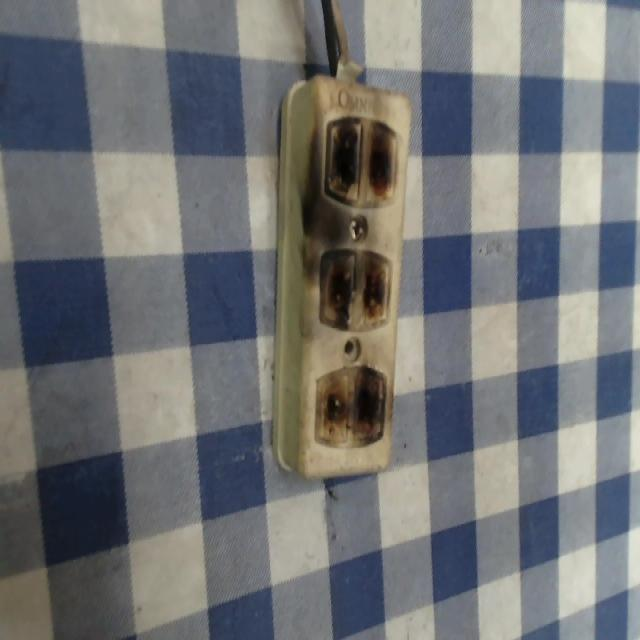-: (318, 112, 399, 211), (313, 244, 395, 335), (309, 360, 389, 449)
